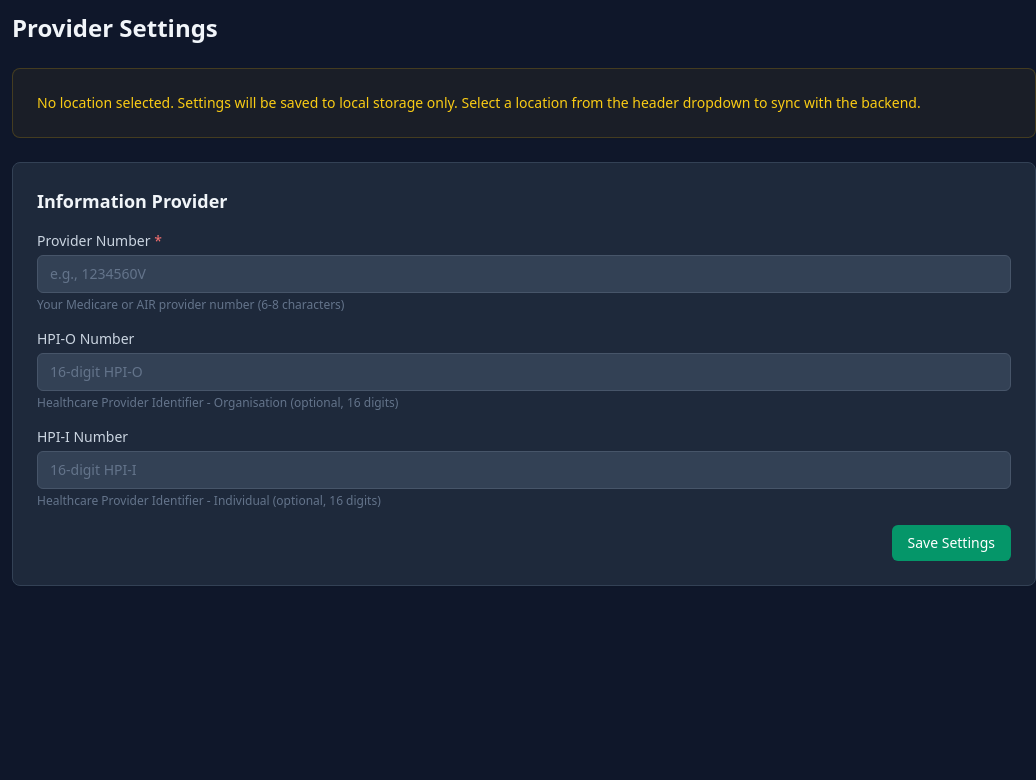
it: SettingsPage › validates HPI-O number format
This screenshot has width=1036, height=780.
Type "1234567A" into the field with test id "provider-number".
click(524, 274); type("1234567A")  # box top-left (37, 255), bottom-right (1011, 293)
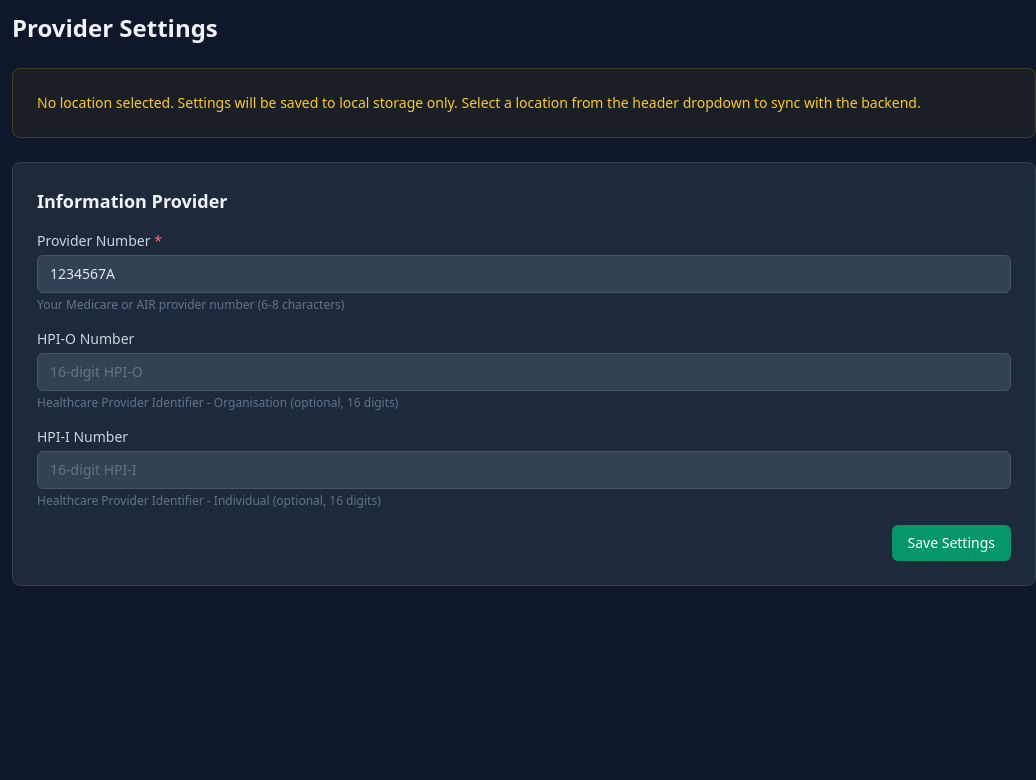
Type "invalid" into the field with test id "hpio-number".
click(524, 372); type("invalid")  # box top-left (37, 353), bottom-right (1011, 391)
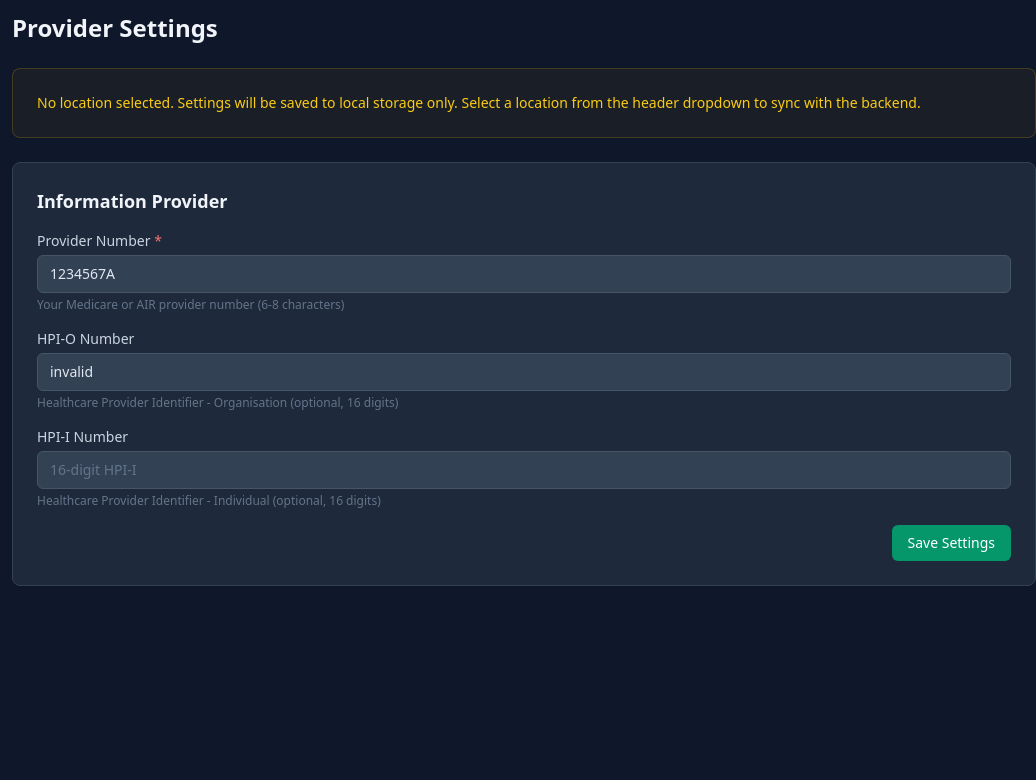
Click the button "Save Settings".
click(951, 543)  # box top-left (892, 525), bottom-right (1011, 561)
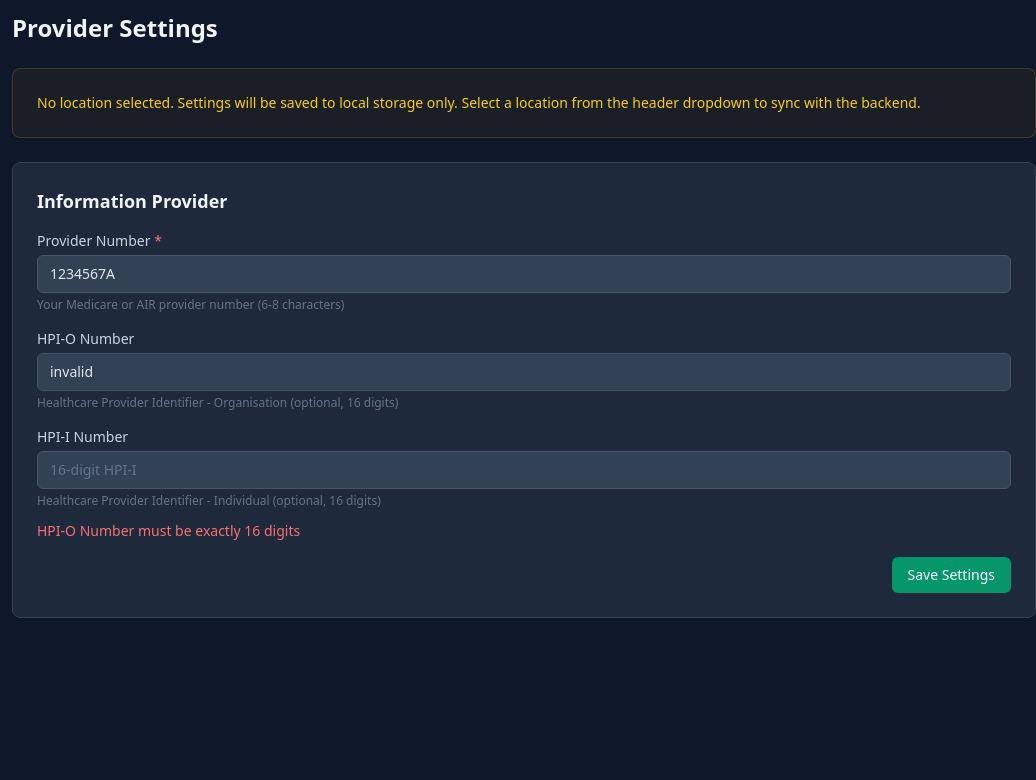
Result: the text "HPI-O Number must be exactly 16 digits" is shown at top-left (37, 521), bottom-right (300, 540)
